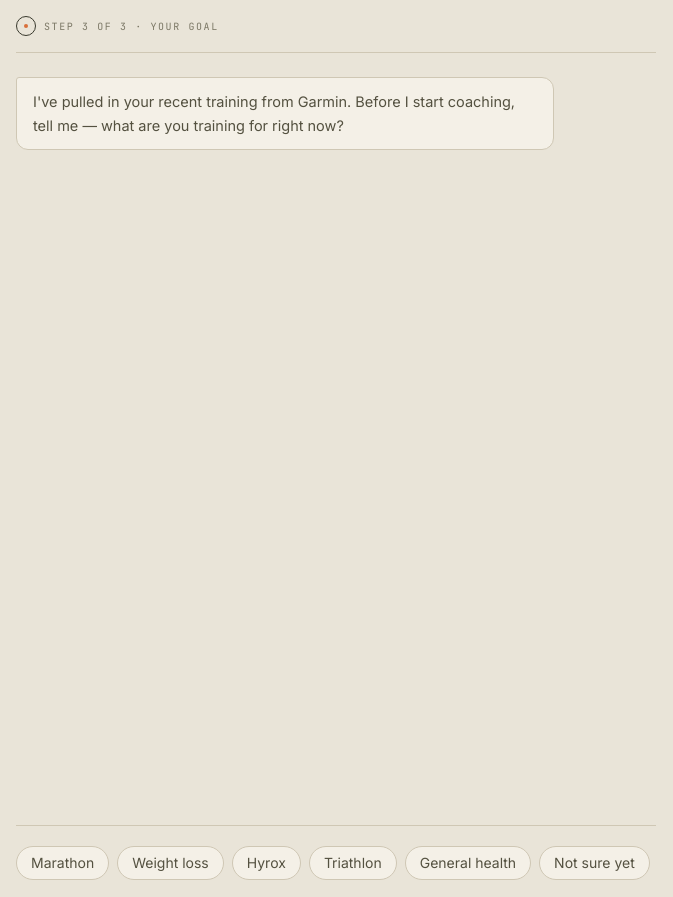
Test: CoachOnboard (A15) › collects goal then metadata and persists goal_params
Step 1. Click the button "Marathon" → (63, 863), box [16, 846, 109, 880]
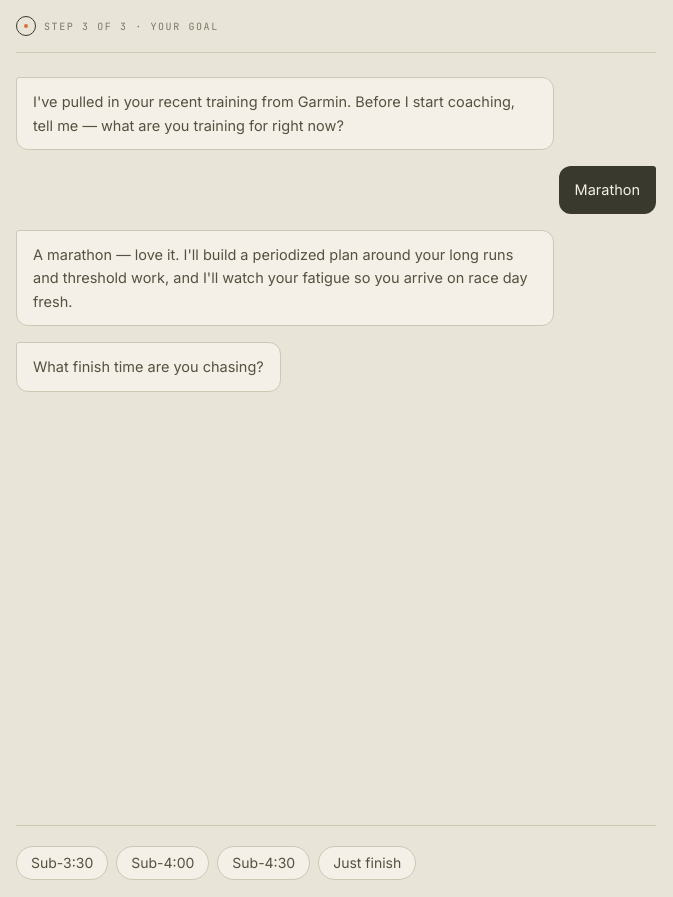
Expected: the text "What finish time are you chasing?" is shown, [16, 342, 281, 392]
Step 2. Click the button "Sub-3:30" → (62, 863), box [16, 846, 108, 880]
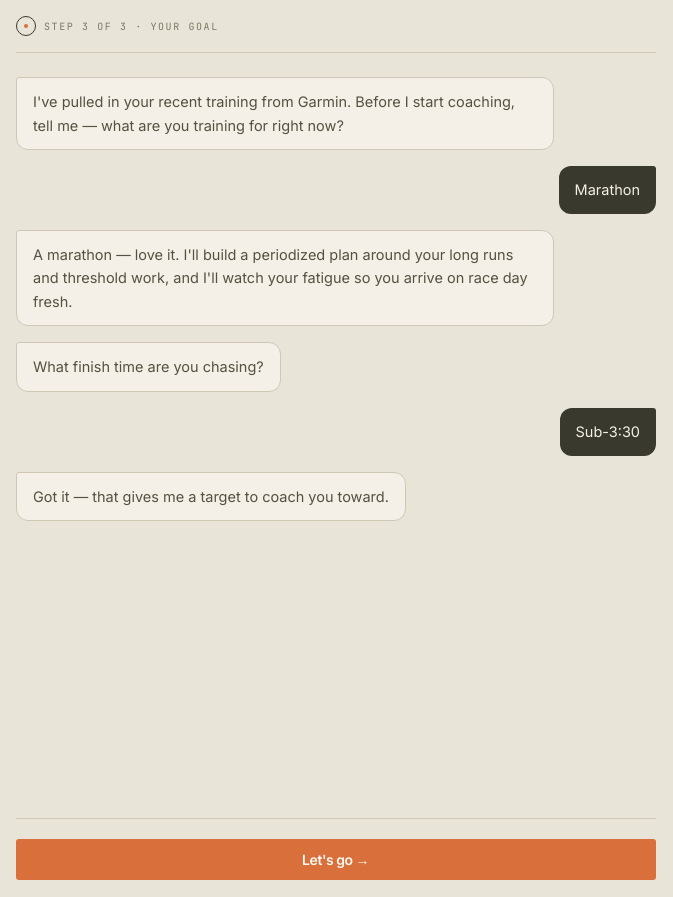
Expected: the button "Let's go →" is shown, [16, 838, 656, 880]
